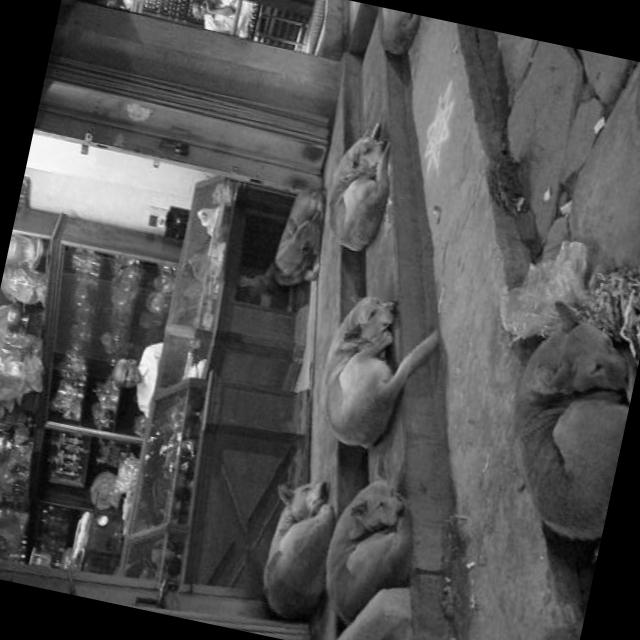laying down: (486, 290, 640, 550), (308, 280, 447, 460), (312, 459, 429, 640), (250, 464, 348, 636), (314, 110, 404, 260), (366, 5, 421, 62)
